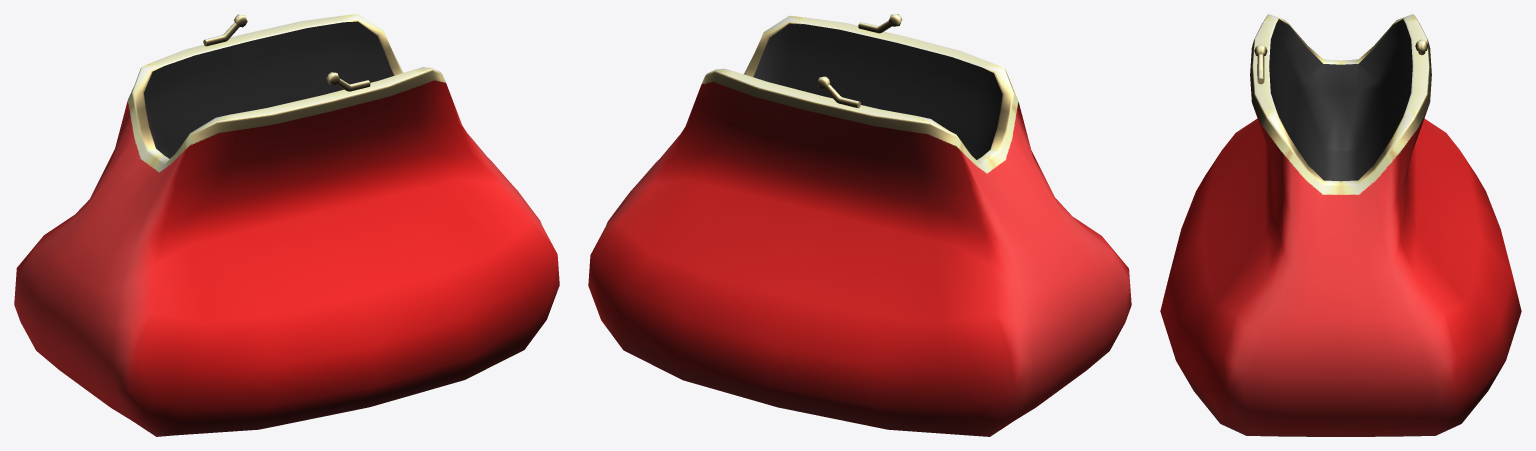
File: Wallet new.fbx
The picture shows the model from 3 angles, left to right: view 1: azimuth 30°, elevation 25°; view 2: azimuth 150°, elevation 25°; view 3: azimuth 270°, elevation 25°; orthographic projection. The views are drawn at different scales.
Visible parts, largest first — view 1: Wallet; view 2: Wallet; view 3: Wallet.
Boxes of the visible parts, x1,y1,x2,y2 form: Wallet: (14,14,559,436); Wallet: (588,14,1131,436); Wallet: (1160,14,1521,436).
Bounding box in the file's own units: 18.8 × 12.79 × 13.49.
